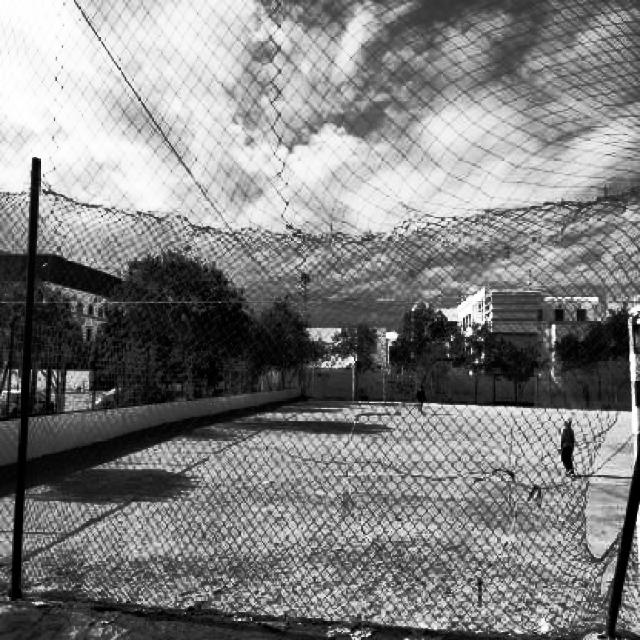anomaly-fence: (512, 363, 640, 600)
